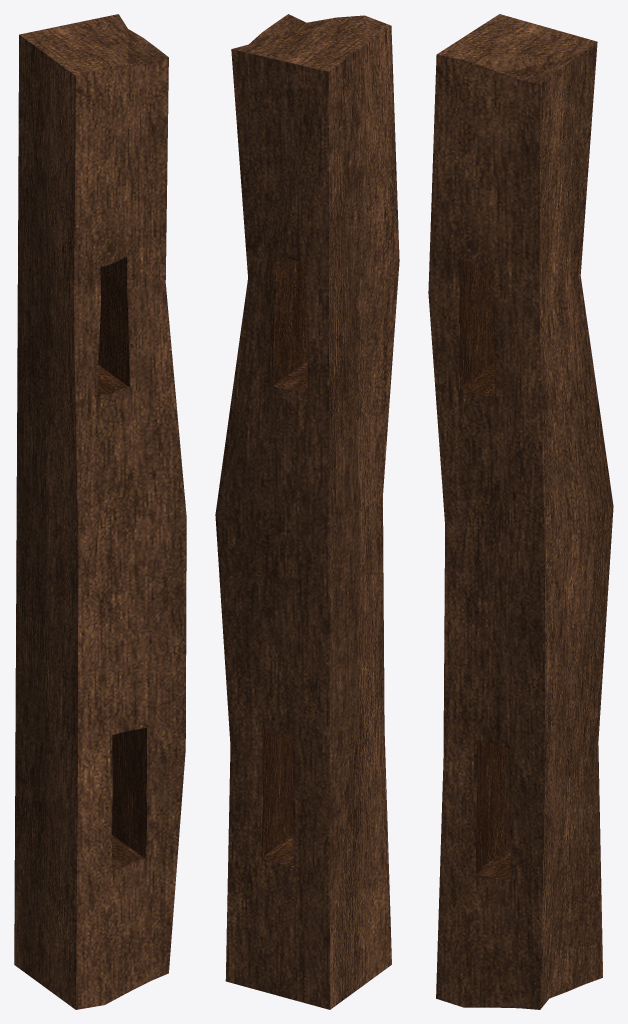
Rendered from wall_pillar.glb.
3 renders of one model, left to right at view 1: azimuth 30°, elevation 25°; view 2: azimuth 150°, elevation 25°; view 3: azimuth 330°, elevation 25°, orthographic.
Parts seen in each view (by area): view 1: FenceLogA; view 2: FenceLogA; view 3: FenceLogA.
Boxes of the visible parts, <box> form: FenceLogA: <box>14,14,186,1009</box>; FenceLogA: <box>215,14,399,1009</box>; FenceLogA: <box>428,14,613,1009</box>.
Size of the model in its own units: 0.1349 by 1.01 by 0.131.
1 material, 1 textured.
